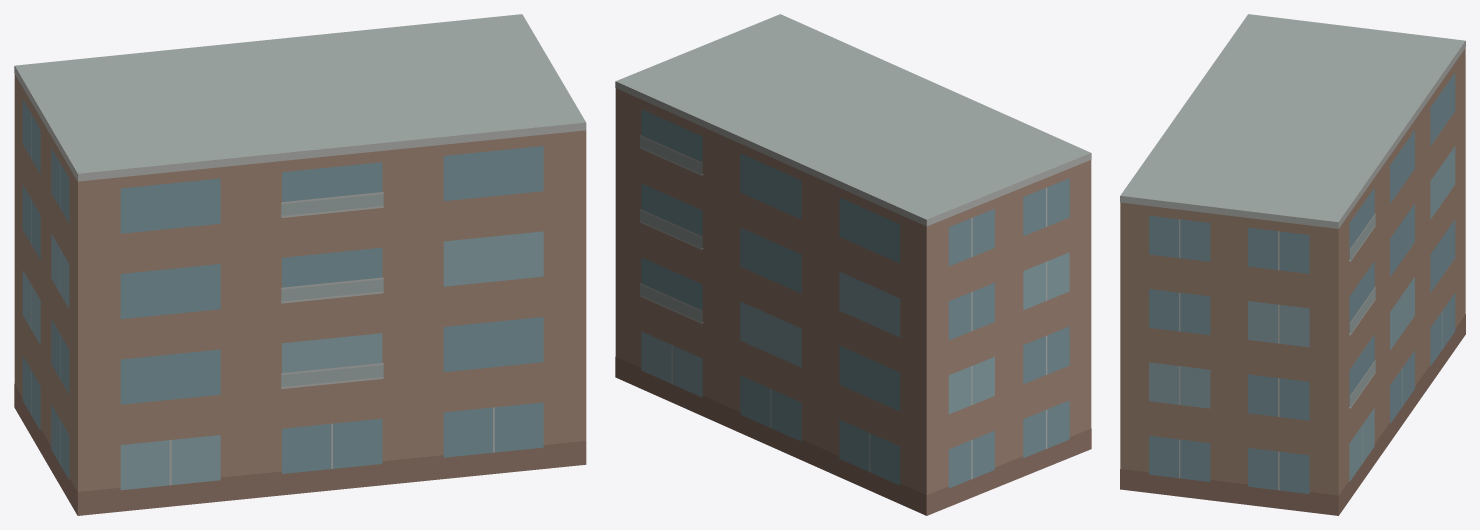
The model's file is survey-upis-32958631.glb.
3 renders of one model, left to right at view 1: azimuth 30°, elevation 25°; view 2: azimuth 150°, elevation 25°; view 3: azimuth 270°, elevation 25°, orthographic. The views are drawn at different scales.
Visible parts, largest first — view 1: survey-upis-32958631.tmp; view 2: survey-upis-32958631.tmp; view 3: survey-upis-32958631.tmp.
Part boxes in pixels (<box>): survey-upis-32958631.tmp: <box>14,14,586,515</box>; survey-upis-32958631.tmp: <box>615,14,1091,515</box>; survey-upis-32958631.tmp: <box>1120,14,1465,515</box>.
Size of the model in its own units: 16.36 by 10.75 by 11.48.
